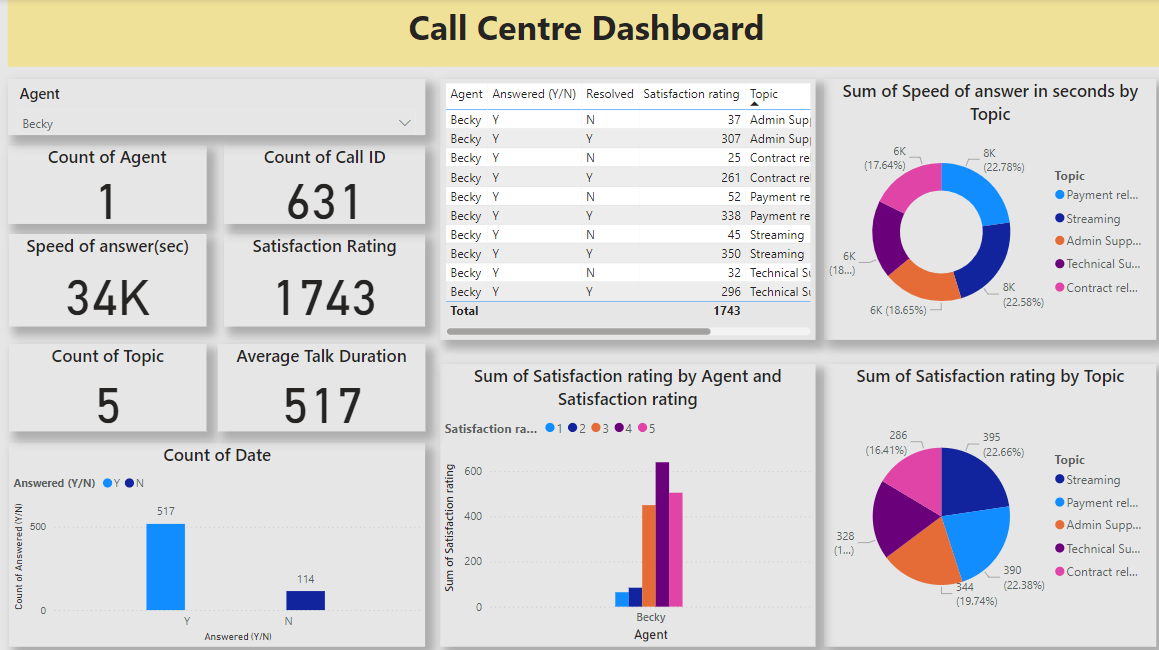

What the dashboard file says about the page in this screenshot:
{"tool":"powerbi","page":{"name":"Page 1","canvas":[1280,720],"ordinal":0},"visuals":[{"type":"textbox","box":[9.6,0,1270.7,74.1],"z":0},{"type":"card","title":"Count of Agent","fields":{"Values":["Count(Sheet1.Agent)"]},"box":[9.6,160.5,218.2,86.4],"z":1000},{"type":"card","title":"Speed of answer(sec)","fields":{"Values":["Sum(Sheet1.Speed of answer in seconds)"]},"box":[11,258,216.8,101.5],"z":2000},{"type":"card","title":"Satisfaction Rating","fields":{"Values":["Sum(Sheet1.Satisfaction rating)"]},"box":[247,258,220.9,101.5],"z":3000},{"type":"clusteredColumnChart","title":"Count of Date","fields":{"Series":["Sheet1.Answered (Y/N)"],"Category":["Sheet1.Answered (Y/N)"],"Y":["CountNonNull(Sheet1.Answered (Y/N))"]},"box":[11,487.1,456.9,223.7],"z":4000},{"type":"card","title":"Count of Call ID","fields":{"Values":["Count(Sheet1.Call Id)"]},"box":[247,160.5,220.9,86.4],"z":5000},{"type":"card","title":"Count of Topic","fields":{"Values":["Count(Sheet1.Topic)"]},"box":[11,378.7,216.8,96.1],"z":6000},{"type":"pieChart","fields":{"Category":["Sheet1.Topic"],"Y":["Sum(Sheet1.Satisfaction rating)"]},"box":[905.7,400.7,365,310.1],"z":7000},{"type":"clusteredColumnChart","fields":{"Category":["Sheet1.Agent"],"Y":["Sum(Sheet1.Satisfaction rating)"],"Series":["Sheet1.Satisfaction rating"]},"box":[484.4,400.7,411.7,310.1],"z":8000},{"type":"donutChart","fields":{"Y":["Sum(Sheet1.Speed of answer in seconds)"],"Category":["Sheet1.Topic"]},"box":[905.7,87.8,365,286.8],"z":9000},{"type":"tableEx","fields":{"Values":["Sheet1.Agent","Sheet1.Answered (Y/N)","Sheet1.Resolved","Sum(Sheet1.Satisfaction rating)","Sheet1.Topic","Avg(Sheet1.Speed of answer in seconds)"]},"box":[484.4,87.8,411.7,286.8],"z":10000},{"type":"slicer","fields":{"Values":["Sheet1.Agent"]},"box":[9.6,87.8,458.3,61.7],"z":11000},{"type":"card","title":"Average Talk Duration","fields":{"Values":["CountNonNull(Sheet1.AvgTalkDuration)"]},"box":[240.1,378.7,227.8,96.1],"z":12000}]}

Visuals, with their boxes in screenshot pixels (x1, y1, x2, y2), scaled from the page's 1280x720 canvas onto the 1159x650 screenshot:
textbox: 9/0/1158/67
"Count of Agent" card: 9/145/206/223
"Speed of answer(sec)" card: 10/233/206/325
"Satisfaction Rating" card: 224/233/424/325
"Count of Date" clusteredColumnChart: 10/440/424/642
"Count of Call ID" card: 224/145/424/223
"Count of Topic" card: 10/342/206/429
pieChart - Sheet1.Topic x Sum(Sheet1.Satisfaction rating): 820/362/1151/642
clusteredColumnChart - Sheet1.Agent x Sum(Sheet1.Satisfaction rating): 439/362/811/642
donutChart - Sum(Sheet1.Speed of answer in seconds) x Sheet1.Topic: 820/79/1151/338
tableEx - Sheet1.Agent x Sheet1.Answered (Y/N): 439/79/811/338
slicer - Sheet1.Agent: 9/79/424/135
"Average Talk Duration" card: 217/342/424/429
